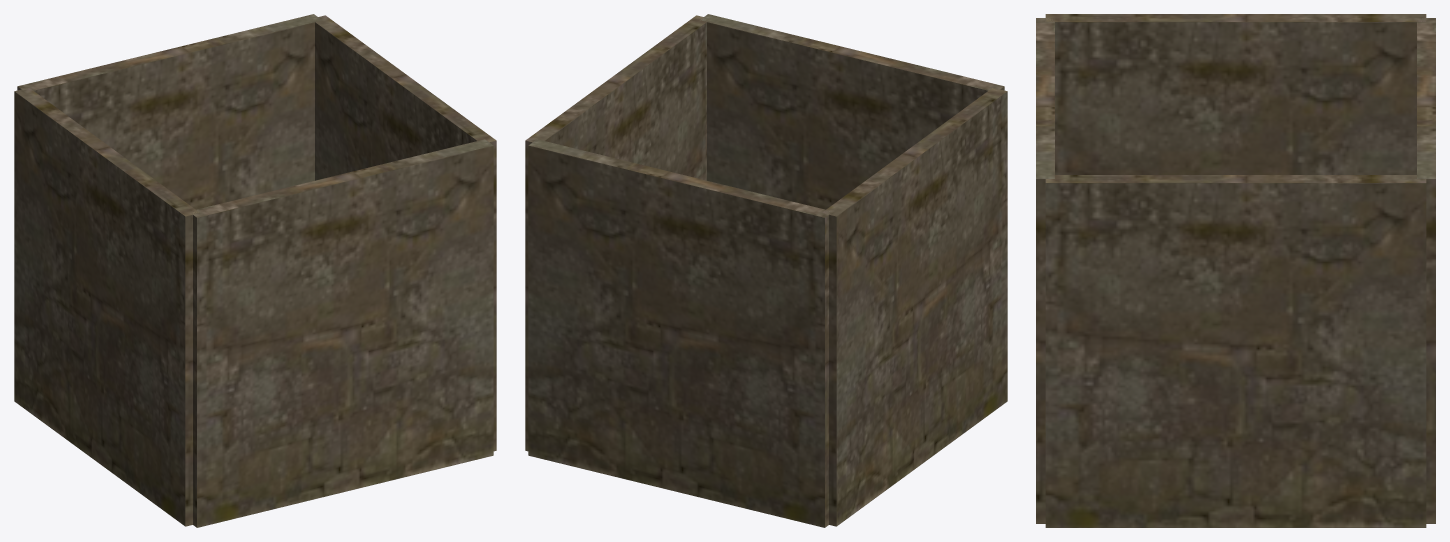
Rendered from MazeField_01.fbx.
3 renders of one model, left to right at view 1: azimuth 30°, elevation 25°; view 2: azimuth 150°, elevation 25°; view 3: azimuth 270°, elevation 25°, orthographic. The views are drawn at different scales.
Visible parts, largest first — view 1: Right Wall, Bottom Wall, Left Wall, Top Wall; view 2: Left Wall, Bottom Wall, Right Wall, Top Wall; view 3: Top Wall, Bottom Wall, Right Wall, Left Wall.
Part boxes in pixels (x1,y1,x2,y2): Right Wall: (189, 139, 493, 527); Bottom Wall: (14, 88, 199, 526); Left Wall: (17, 14, 321, 209); Top Wall: (312, 15, 496, 451); Left Wall: (528, 139, 832, 527); Bottom Wall: (822, 88, 1007, 526); Right Wall: (700, 14, 1004, 209); Top Wall: (525, 15, 710, 451); Top Wall: (1045, 175, 1426, 527); Bottom Wall: (1045, 14, 1426, 174); Right Wall: (1036, 18, 1054, 523); Left Wall: (1417, 18, 1435, 523).
Bounding box in the file's own units: 210 × 200 × 210.
Materials: 5 (5 with a texture image).
